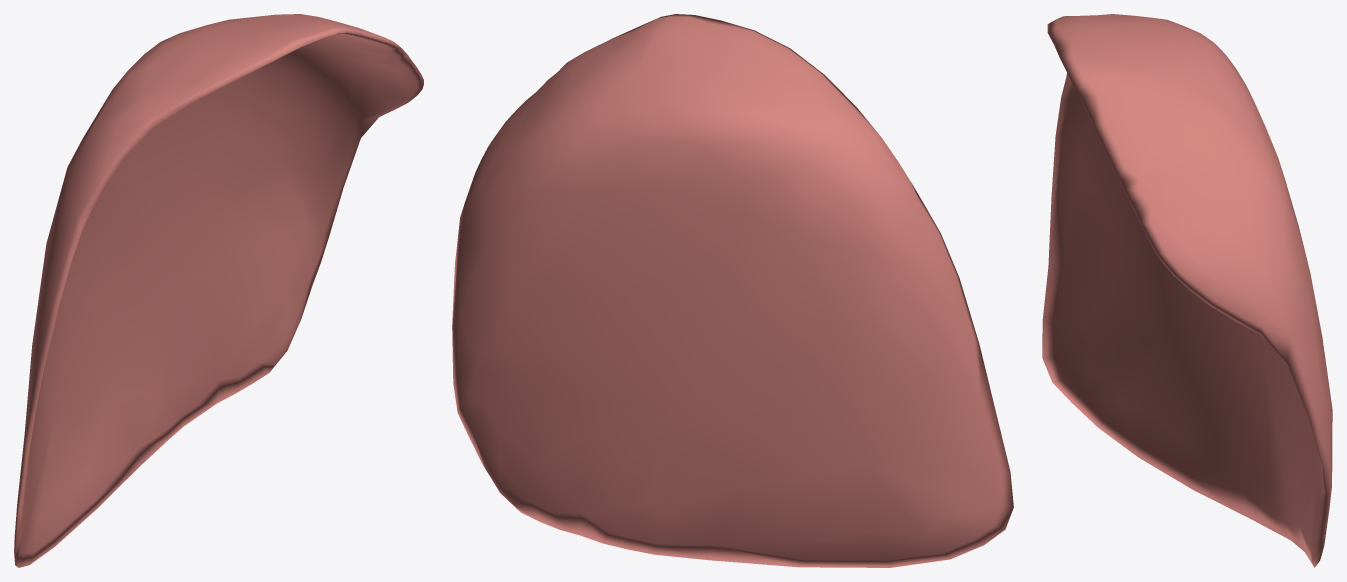
3 renders of one model, left to right at view 1: azimuth 30°, elevation 25°; view 2: azimuth 150°, elevation 25°; view 3: azimuth 270°, elevation 25°, orthographic. The views are drawn at different scales.
Parts seen in each view (by area): view 1: ZA_49d92d716cc17de1; view 2: ZA_49d92d716cc17de1; view 3: ZA_49d92d716cc17de1.
Boxes of the visible parts, x1,y1,x2,y2 form: ZA_49d92d716cc17de1: (14,14,423,567); ZA_49d92d716cc17de1: (452,14,1013,567); ZA_49d92d716cc17de1: (1042,14,1332,567).
Bounding box in the file's own units: 0.0255 × 0.0249 × 0.0124.
